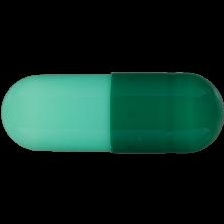0185-0674: (0, 0, 224, 224)
